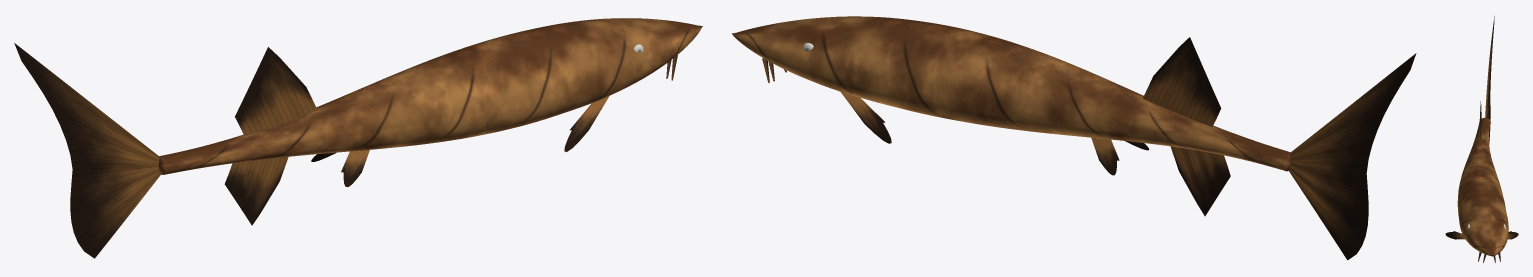
Rendered from fish_sturgeon_cooked.gltf.
3 views of the same model, side by side, from view 1: azimuth 30°, elevation 25°; view 2: azimuth 150°, elevation 25°; view 3: azimuth 270°, elevation 25° (orthographic). The views are drawn at different scales.
Parts seen in each view (by area): view 1: fish_sturgeon_cooked; view 2: fish_sturgeon_cooked; view 3: fish_sturgeon_cooked.
Part boxes in pixels (<box>): fish_sturgeon_cooked: <box>14,18,702,258</box>; fish_sturgeon_cooked: <box>732,16,1416,260</box>; fish_sturgeon_cooked: <box>1445,16,1518,262</box>.
Size of the model in its own units: 1.35 by 0.4316 by 0.2483.
Materials: 7 (4 with a texture image).
